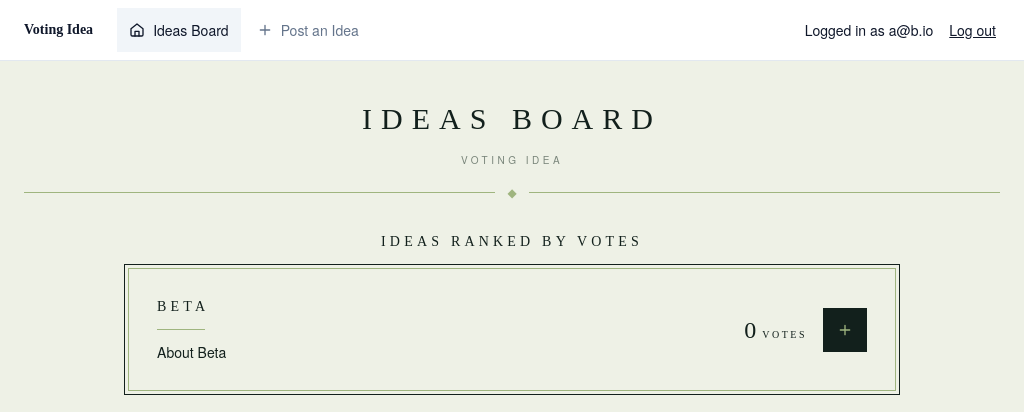
Test case: Board upvote › [AC-028] accepts a vote on an idea I posted myself and counts it
Click the button named "Vote for Beta": [845, 330] box [823, 308, 867, 352]
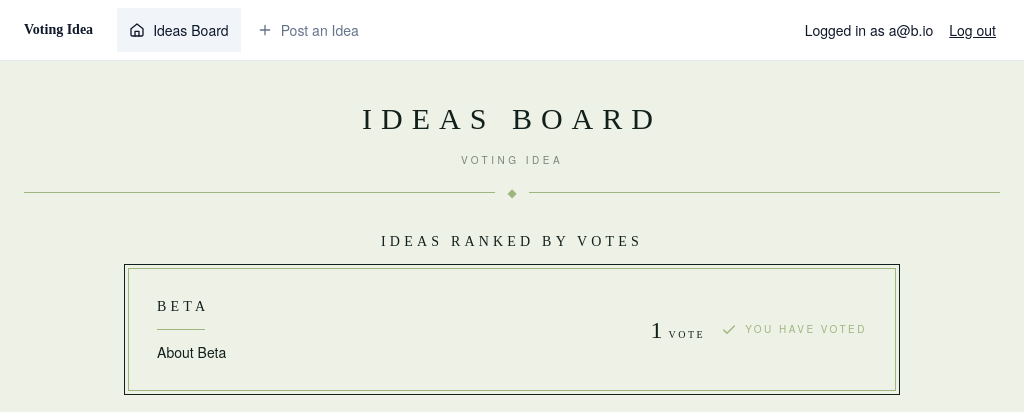
Expected: the text "You have voted" is shown, [721, 322, 867, 338]
Expected: the list with test id "ideas-ranked-by-votes-list" shows "1 vote", [128, 268, 896, 391]
